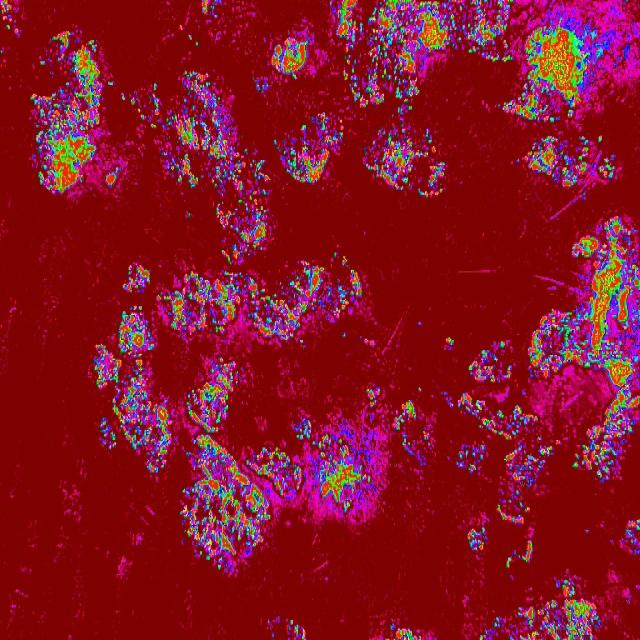fire: (184, 261, 362, 347), (178, 434, 270, 574), (572, 217, 640, 392), (31, 32, 103, 197), (333, 0, 515, 62), (522, 10, 614, 124), (161, 68, 248, 186), (111, 303, 156, 452), (572, 392, 640, 482), (363, 126, 444, 198), (310, 430, 376, 515), (275, 111, 346, 183), (184, 356, 242, 434), (212, 185, 272, 260), (520, 134, 588, 192), (342, 62, 421, 111), (509, 601, 600, 640), (530, 306, 571, 380), (502, 442, 554, 486), (468, 340, 514, 384), (484, 402, 538, 438), (270, 35, 309, 79), (272, 446, 304, 498), (154, 397, 173, 477), (496, 487, 532, 528), (156, 288, 184, 332), (454, 442, 487, 477), (90, 342, 111, 389), (122, 262, 150, 293), (392, 399, 417, 432), (464, 524, 488, 556), (458, 392, 484, 421), (624, 516, 640, 559), (247, 156, 270, 183), (0, 0, 18, 32), (96, 412, 112, 448), (387, 624, 422, 640), (499, 94, 522, 118), (128, 92, 146, 122), (148, 79, 158, 132), (598, 154, 617, 180), (105, 167, 123, 192), (287, 617, 306, 640), (556, 577, 577, 597), (519, 538, 535, 564), (364, 383, 380, 408), (250, 76, 272, 94), (295, 417, 310, 441), (200, 0, 220, 16), (440, 391, 454, 409), (143, 452, 154, 472), (422, 428, 433, 448), (392, 110, 406, 124), (399, 434, 413, 448), (444, 335, 456, 350), (476, 627, 487, 640), (504, 554, 512, 570), (492, 615, 500, 630), (580, 190, 587, 202), (106, 77, 114, 87), (186, 32, 193, 42), (186, 210, 193, 220), (416, 385, 422, 395), (596, 134, 603, 142), (194, 41, 200, 48), (417, 320, 422, 328), (120, 94, 124, 101), (334, 251, 338, 258)
